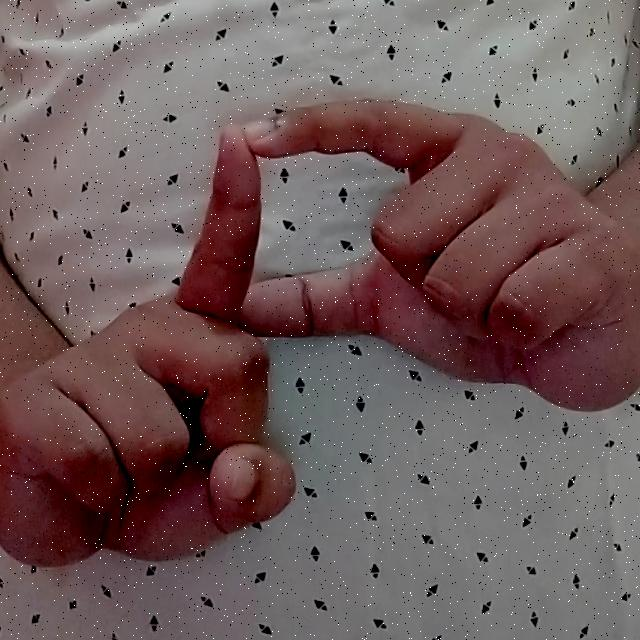D: (9, 87, 626, 580)
